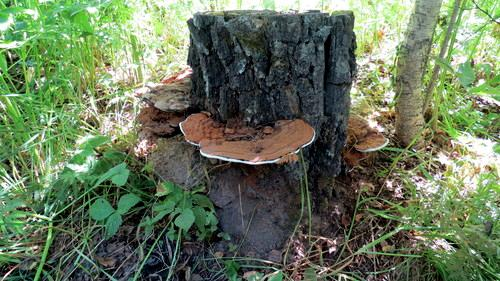Ganoderma - Fruit Body: (177, 110, 314, 167), (346, 111, 389, 154)
